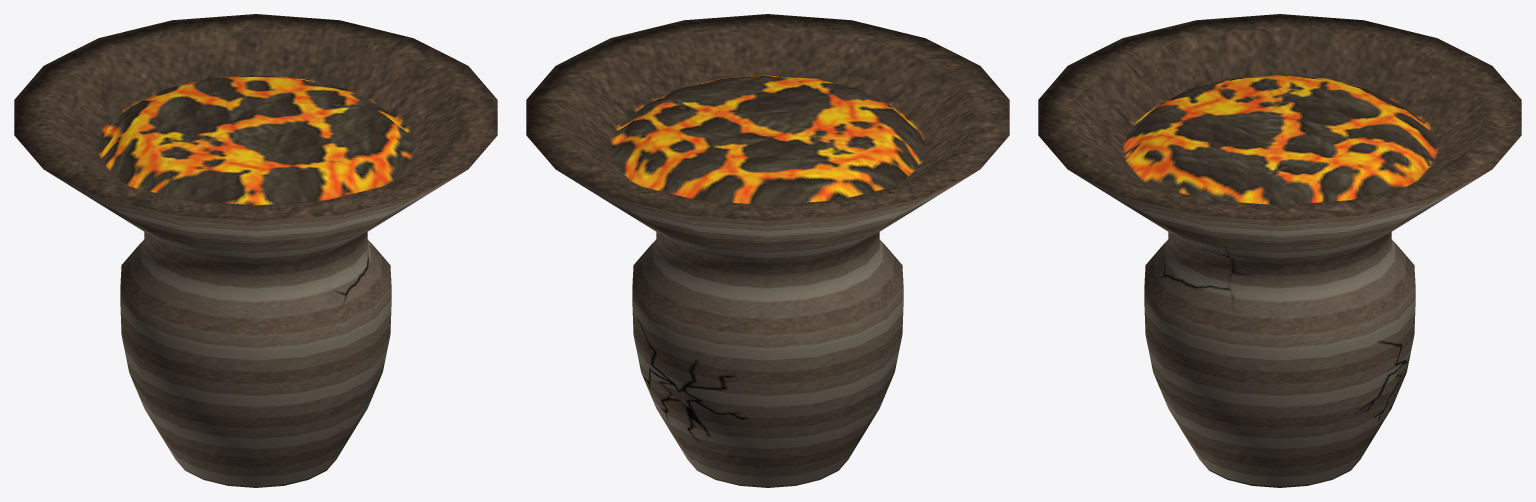
The model's file is fogarel.FBX.
The picture shows the model from 3 angles, left to right: view 1: azimuth 30°, elevation 25°; view 2: azimuth 150°, elevation 25°; view 3: azimuth 270°, elevation 25°; orthographic projection.
Parts seen in each view (by area): view 1: fogarel puzzle; view 2: fogarel puzzle; view 3: fogarel puzzle.
Part boxes in pixels (box(x1,y1,x2,y2)): fogarel puzzle: box(14, 14, 497, 487); fogarel puzzle: box(526, 14, 1009, 487); fogarel puzzle: box(1038, 14, 1521, 487).
Bounding box in the file's own units: 288 × 218 × 284.
